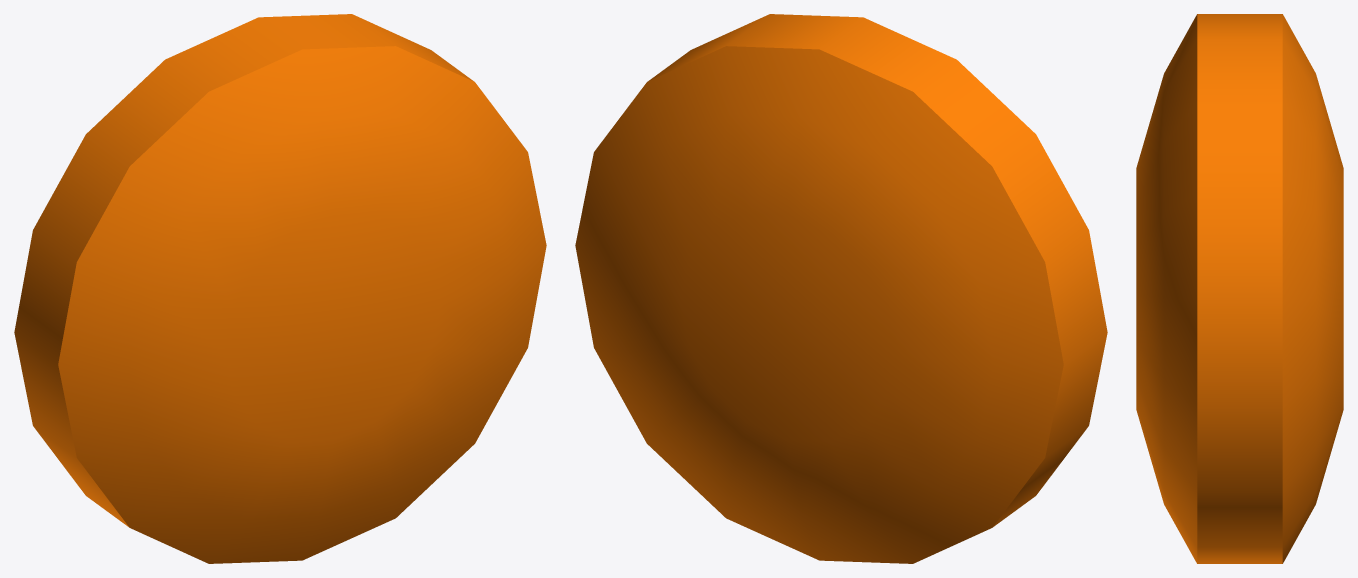
The model's file is beadCharm.fbx.
3 renders of one model, left to right at view 1: azimuth 30°, elevation 25°; view 2: azimuth 150°, elevation 25°; view 3: azimuth 270°, elevation 25°, orthographic. The views are drawn at different scales.
Visible parts, largest first — view 1: c01; view 2: c01; view 3: c01.
Part boxes in pixels (x1,y1,x2,y2): c01: (14, 14, 546, 563); c01: (575, 14, 1107, 563); c01: (1136, 14, 1343, 563).
Size of the model in its own units: 16.1 by 16.1 by 6.06.
